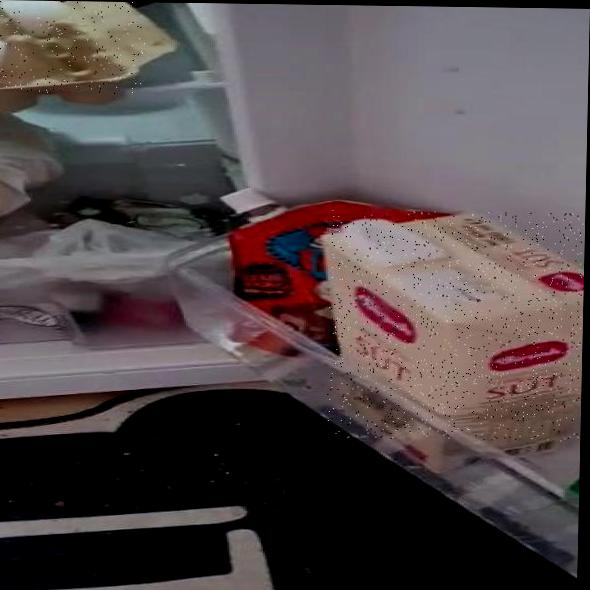eggs: (0, 0, 146, 93)
milk: (326, 210, 583, 442)
